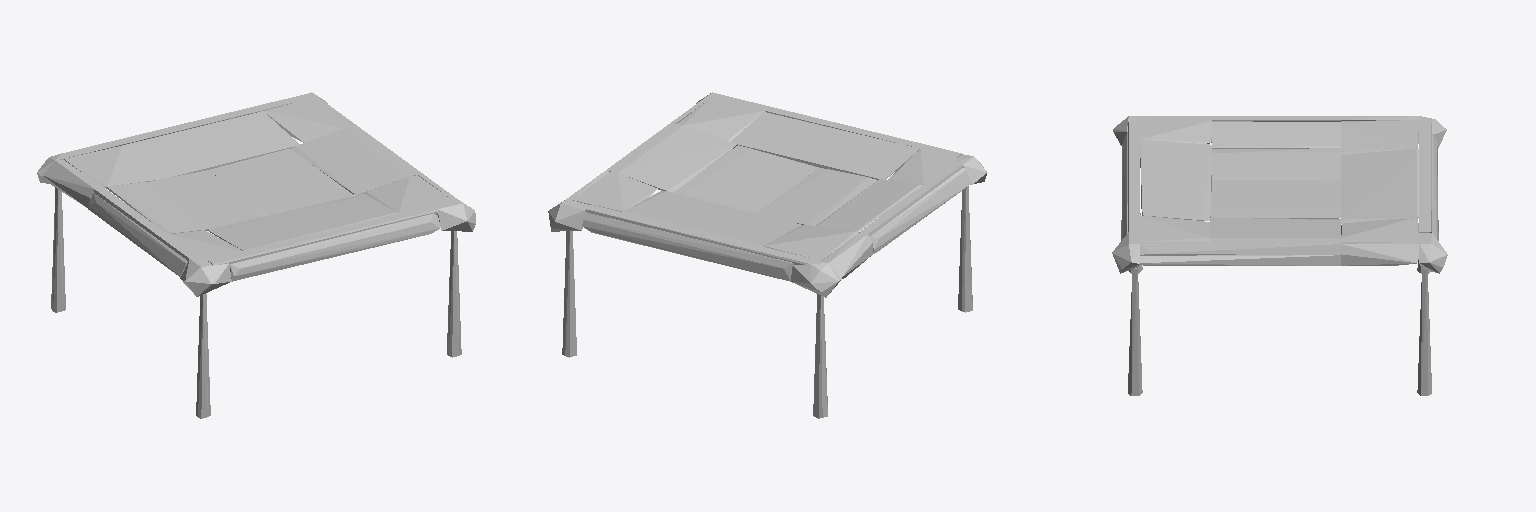
Rendered from x_Market.obj.
3 renders of one model, left to right at view 1: azimuth 30°, elevation 25°; view 2: azimuth 150°, elevation 25°; view 3: azimuth 270°, elevation 25°, orthographic.
Visible parts, largest first — view 1: convex_19, convex_16, convex_20, convex_22, convex_25, convex_14, convex_26, convex_18, convex_21, convex_9, convex_23, convex_24 (+9 smaller); view 2: convex_20, convex_16, convex_19, convex_22, convex_15, convex_14, convex_26, convex_24, convex_9, convex_17, convex_18, convex_21 (+10 smaller); view 3: convex_20, convex_19, convex_16, convex_14, convex_26, convex_22, convex_13, convex_18, convex_12, convex_8, convex_21, convex_24 (+10 smaller).
Boxes of the visible parts, x1=… form: convex_19: x1=123, y1=111, x2=299, y2=178; convex_16: x1=209, y1=149, x2=353, y2=214; convex_20: x1=207, y1=193, x2=397, y2=250; convex_22: x1=291, y1=127, x2=416, y2=194; convex_25: x1=230, y1=213, x2=440, y2=281; convex_14: x1=149, y1=170, x2=268, y2=228; convex_26: x1=106, y1=182, x2=211, y2=233; convex_18: x1=64, y1=145, x2=159, y2=187; convex_21: x1=264, y1=98, x2=351, y2=142; convex_9: x1=88, y1=193, x2=187, y2=277; convex_23: x1=208, y1=205, x2=437, y2=264; convex_24: x1=365, y1=175, x2=451, y2=212; convex_20: x1=731, y1=112, x2=919, y2=179; convex_16: x1=674, y1=145, x2=818, y2=212; convex_19: x1=623, y1=190, x2=800, y2=246; convex_22: x1=611, y1=124, x2=736, y2=192; convex_15: x1=582, y1=212, x2=793, y2=281; convex_14: x1=757, y1=168, x2=876, y2=225; convex_26: x1=816, y1=179, x2=922, y2=231; convex_24: x1=677, y1=98, x2=764, y2=141; convex_9: x1=870, y1=168, x2=970, y2=253; convex_17: x1=586, y1=205, x2=815, y2=264; convex_18: x1=764, y1=225, x2=858, y2=260; convex_21: x1=572, y1=172, x2=657, y2=211; convex_20: x1=1140, y1=140, x2=1211, y2=220; convex_19: x1=1341, y1=148, x2=1418, y2=223; convex_16: x1=1211, y1=180, x2=1340, y2=218; convex_14: x1=1212, y1=148, x2=1340, y2=179; convex_26: x1=1212, y1=121, x2=1340, y2=148; convex_22: x1=1210, y1=218, x2=1340, y2=241; convex_13: x1=1140, y1=242, x2=1340, y2=255; convex_18: x1=1341, y1=120, x2=1418, y2=154; convex_12: x1=1140, y1=255, x2=1340, y2=265; convex_8: x1=1341, y1=242, x2=1418, y2=265; convex_21: x1=1341, y1=217, x2=1418, y2=241; convex_24: x1=1140, y1=215, x2=1209, y2=241.
Bounding box in the file's own units: 18.51 × 9.28 × 18.56.